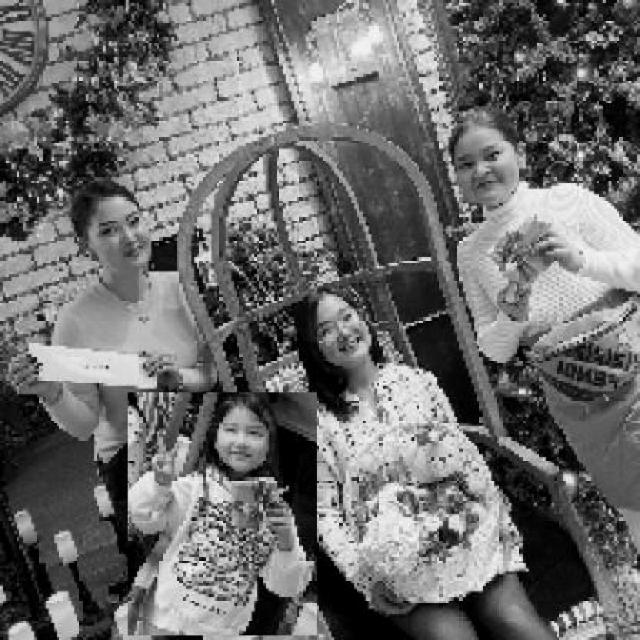child: (126, 392, 317, 637)
